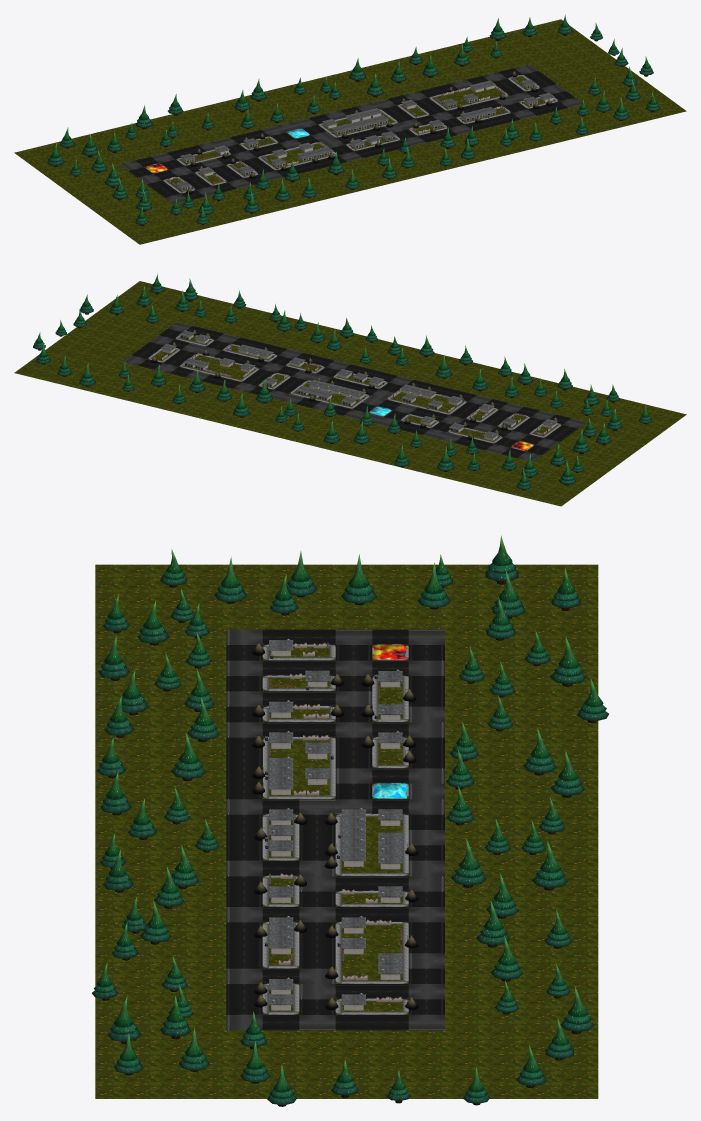
Rendered from gm14_environment_05.FBX.
The picture shows the model from 3 angles, top to bottom: view 1: azimuth 30°, elevation 25°; view 2: azimuth 150°, elevation 25°; view 3: azimuth 270°, elevation 25°; orthographic projection. The views are drawn at different scales.
Parts seen in each view (by area): view 1: env_main_ground_01, env_road_01, env_ground_016, prp_lampostlight_02, prp_lampostlight_01; view 2: env_main_ground_01, env_road_01, env_ground_016, prp_lampostlight_02; view 3: env_main_ground_01, env_road_01, env_ground_016, prp_lampostlight_02, prp_lampostlight_01.
Boxes of the visible parts, x1,y1,x2,y2 form: env_main_ground_01: (14,19,686,244); env_road_01: (119,64,581,203); env_ground_016: (146,75,557,193); prp_lampostlight_02: (190,71,537,171); prp_lampostlight_01: (186,100,552,193); env_main_ground_01: (14,281,686,506); env_road_01: (123,322,586,461); env_ground_016: (148,335,560,450); prp_lampostlight_02: (151,342,507,439); env_main_ground_01: (95,564,598,1098); env_road_01: (226,629,444,1030); env_ground_016: (262,644,408,1014); prp_lampostlight_02: (324,674,418,1009); prp_lampostlight_01: (252,643,306,1007).
Bounding box in the file's own units: 213 × 9.04 × 85.22.
Materials: 13 (13 with a texture image).
